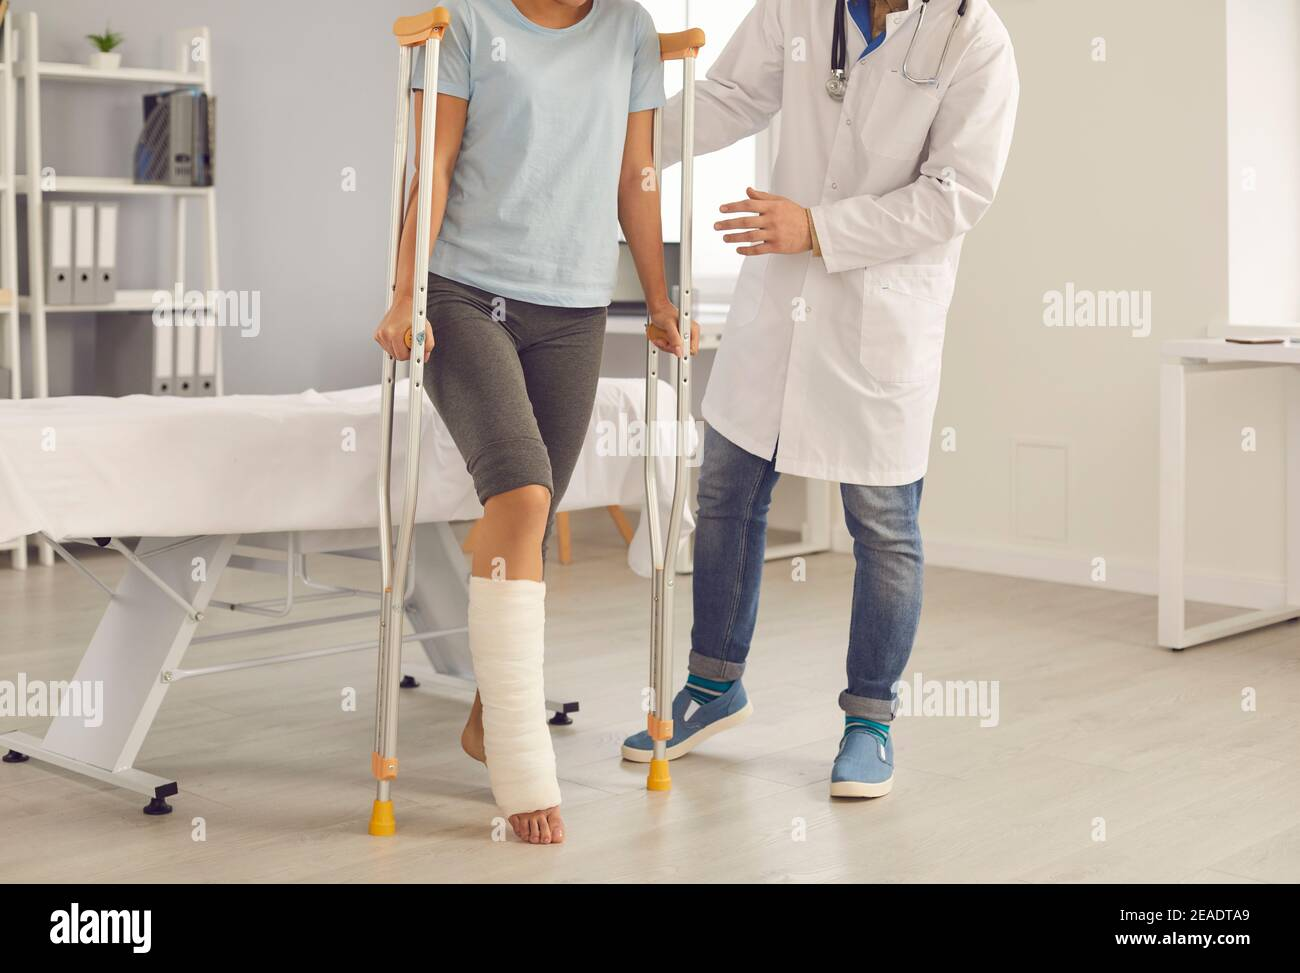crutches: (365, 3, 701, 847)
